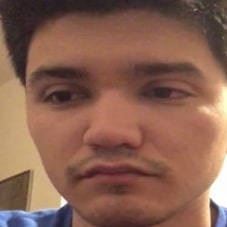drowsy: (27, 54, 212, 196)
